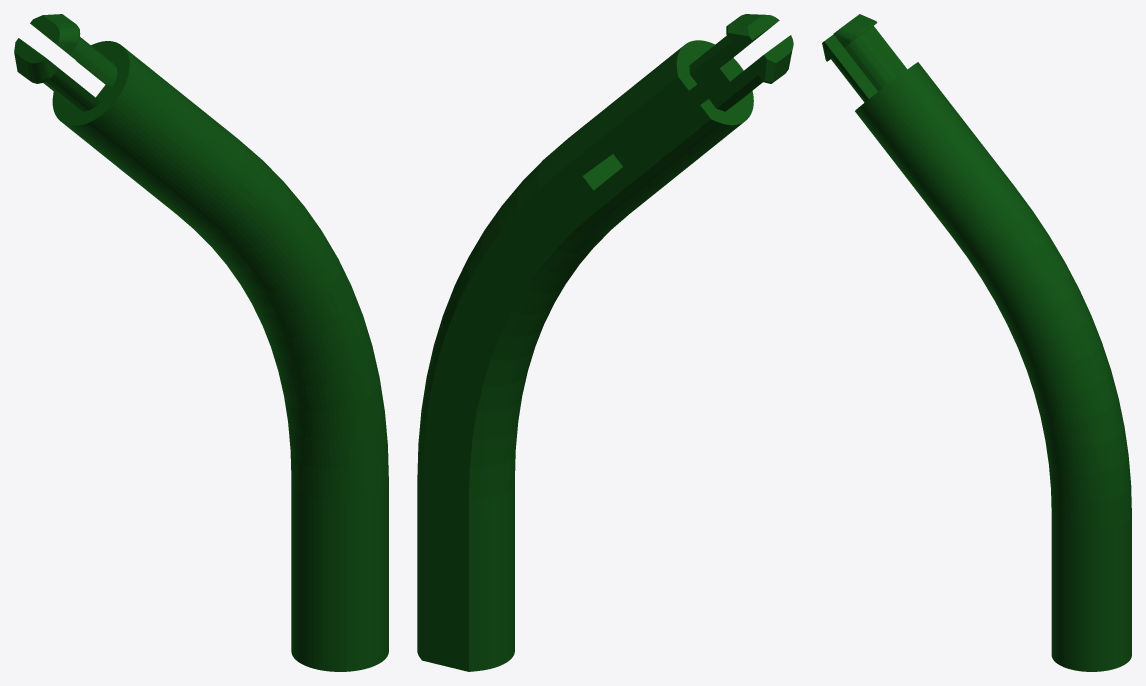
Rendered from stem_1A_45L.glb.
3 views of the same model, side by side, from view 1: azimuth 30°, elevation 25°; view 2: azimuth 150°, elevation 25°; view 3: azimuth 330°, elevation 25° (orthographic). The views are drawn at different scales.
Visible parts, largest first — view 1: stem_1A_45L; view 2: stem_1A_45L; view 3: stem_1A_45L.
Part boxes in pixels (bbox=[...]): stem_1A_45L: bbox=[14, 14, 388, 671]; stem_1A_45L: bbox=[417, 14, 793, 671]; stem_1A_45L: bbox=[822, 14, 1131, 671].
Bounding box in the file's own units: 0.0307 × 0.0571 × 0.00666.
